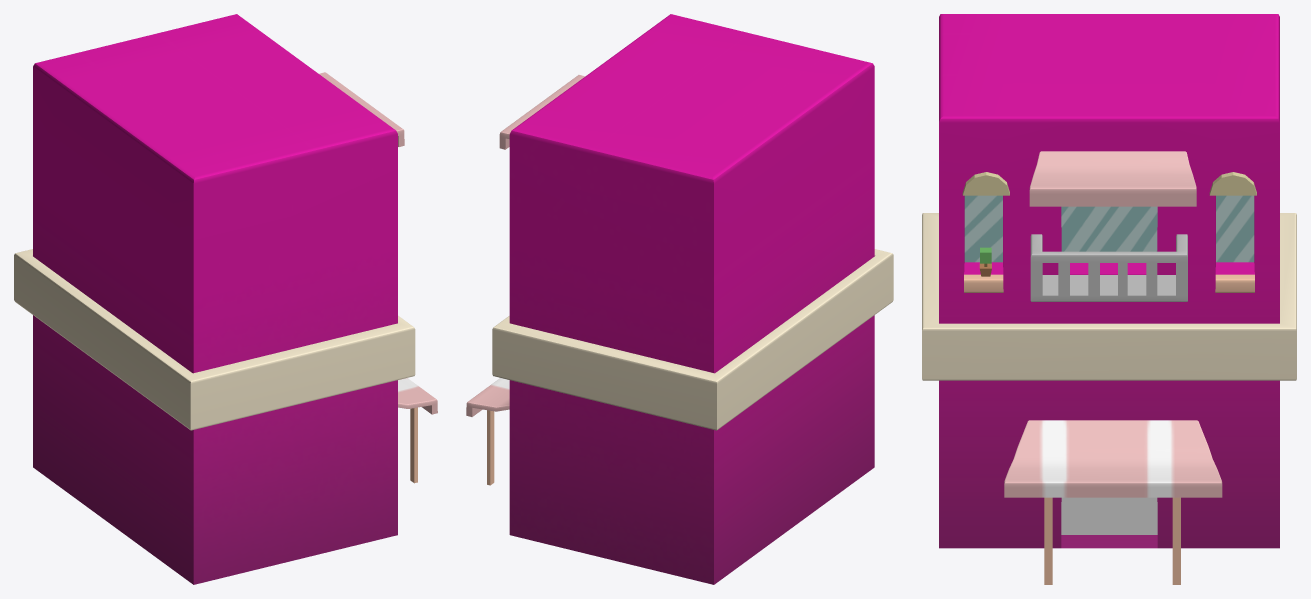
Rendered from BuildingShort_01C.fbx.
The picture shows the model from 3 angles, left to right: view 1: azimuth 30°, elevation 25°; view 2: azimuth 150°, elevation 25°; view 3: azimuth 270°, elevation 25°; orthographic projection. The views are drawn at different scales.
Visible parts, largest first — view 1: polySurface1066; view 2: polySurface1066; view 3: polySurface1066.
Part boxes in pixels (box(x1,y1,x2,y2)): polySurface1066: box(14, 14, 437, 584); polySurface1066: box(466, 14, 893, 584); polySurface1066: box(922, 14, 1296, 584).
Bounding box in the file's own units: 4.22 × 5.73 × 4.52.
